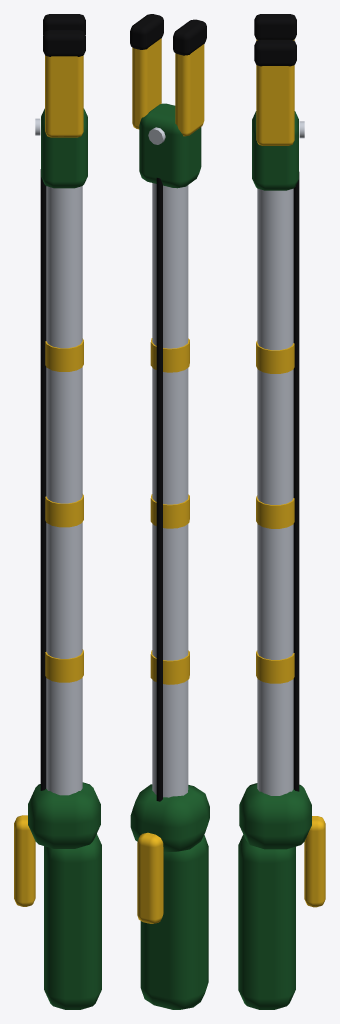
File: TrashGrabber.obj
3 renders of one model, left to right at view 1: azimuth 90°, elevation 25°; view 2: azimuth 150°, elevation 25°; view 3: azimuth 270°, elevation 25°, orthographic.
Bounding box in the file's own units: 0.0343 × 0.506 × 0.041.
